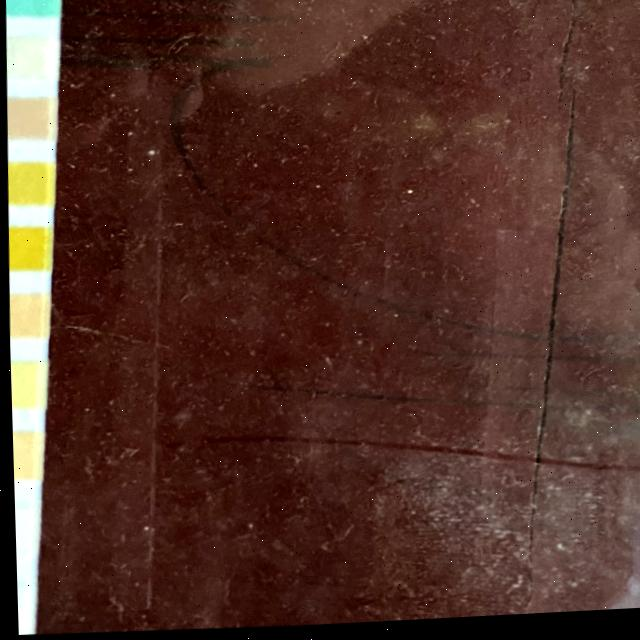Bilirubin: (5, 36, 56, 79)
Blood: (6, 227, 44, 268)
Glucose: (5, 0, 58, 17)
Ketone: (5, 98, 53, 137)
Leukocytes: (14, 586, 27, 634)
Nitrite: (12, 506, 30, 552)
Protein: (8, 363, 37, 406)
SpGravity: (6, 163, 48, 204)
Urobilinogen: (10, 432, 34, 478)
pH: (7, 293, 41, 337)
